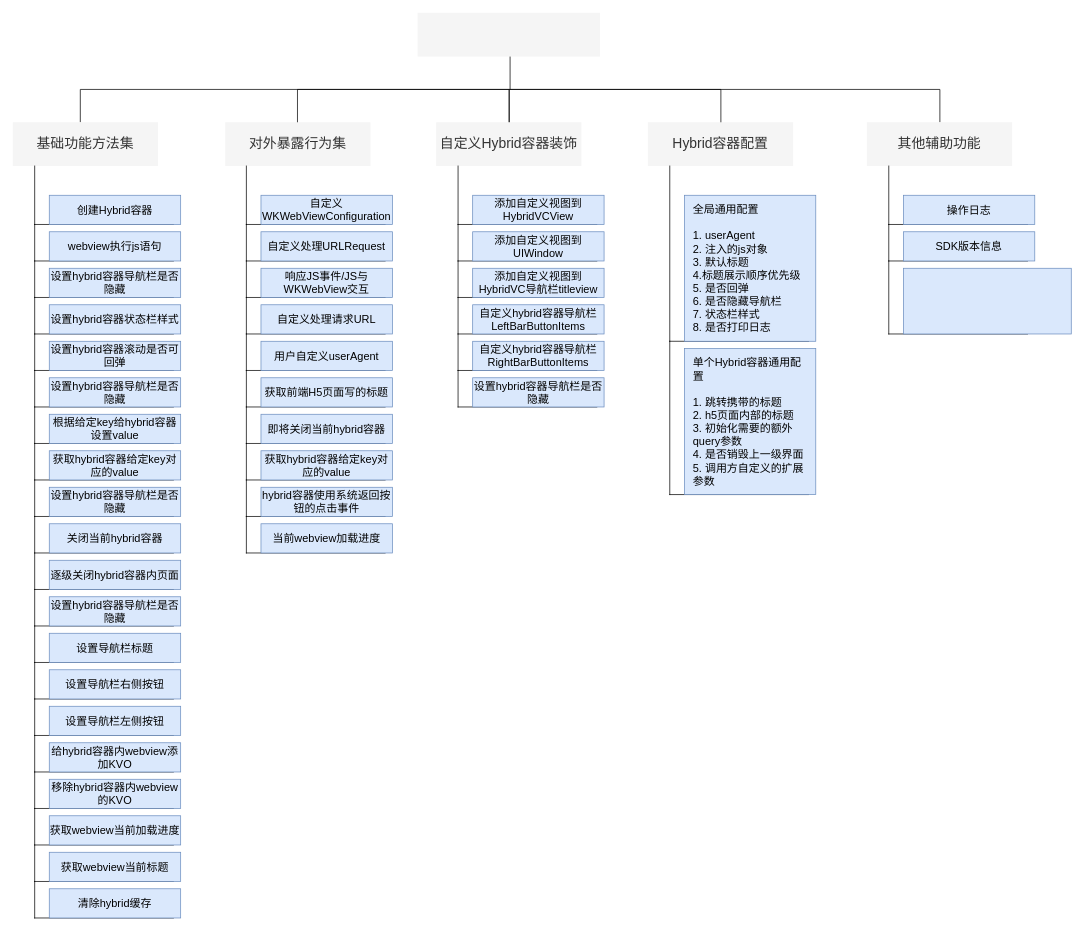
The diagram is 1084 pixels wide and 931 high, and some of its shapes have lost their labels. The shapes that lost their labels are listed below. From the top down, each one's box as (x1, y1, x2, y2) in pixels, then its label:
(417, 12, 600, 56): WBCarHybridSDK
(903, 268, 1071, 334): UI库 1. WBCarHybridProgressView
